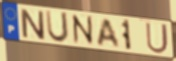1: (120, 18, 133, 52)
A: (96, 18, 122, 49)
N: (19, 7, 47, 42), (70, 13, 96, 46)
U: (44, 9, 70, 45), (144, 21, 170, 55)
